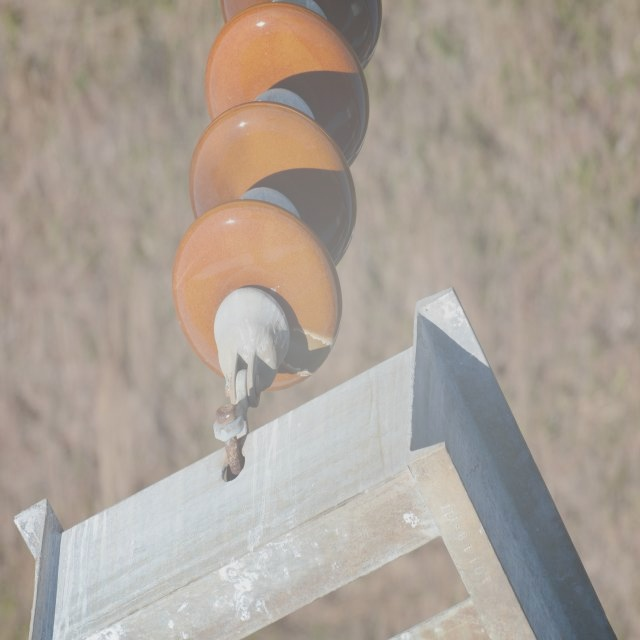insulator: (173, 0, 382, 389)
